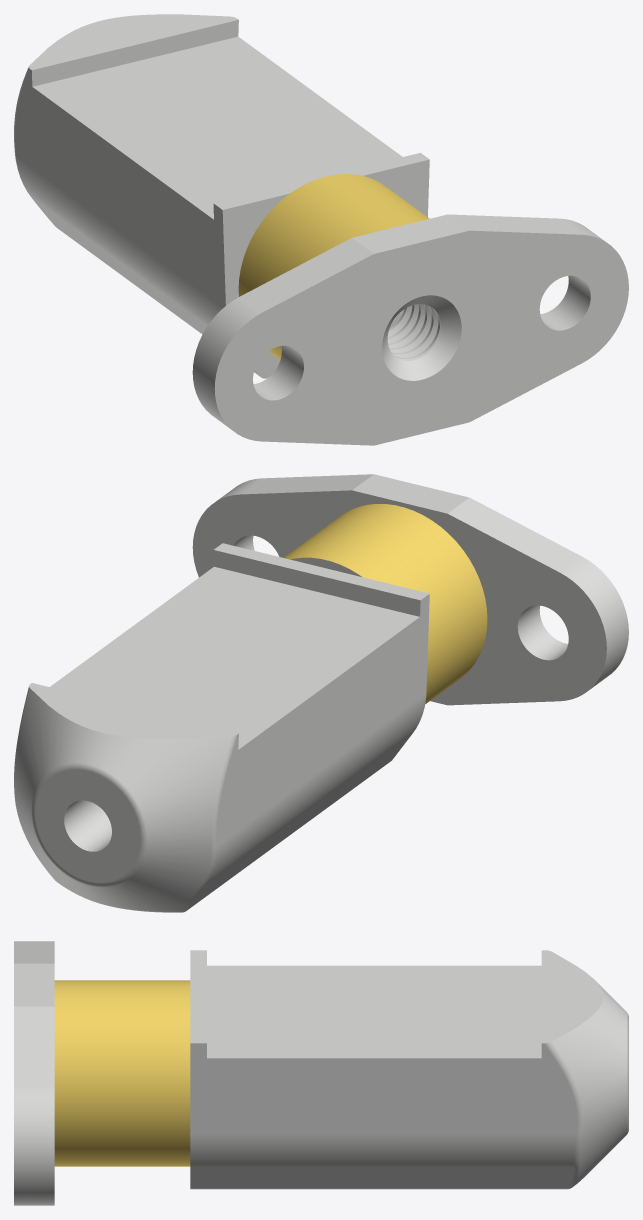
The model's file is Body4.gltf.
3 renders of one model, top to bottom at view 1: azimuth 30°, elevation 25°; view 2: azimuth 150°, elevation 25°; view 3: azimuth 270°, elevation 25°, orthographic. The views are drawn at different scales.
Parts seen in each view (by area): view 1: mesh3911, mesh3880, mesh3883, mesh3899, mesh3885, mesh3897, mesh3878, mesh3879, mesh3901, mesh3902, mesh3912, mesh3908 (+7 smaller); view 2: mesh3880, mesh3900, mesh3873, mesh3883, mesh3899, mesh3871, mesh3885, mesh3878, mesh3881, mesh3901, mesh3902, mesh3887 (+7 smaller); view 3: mesh3880, mesh3882, mesh3899, mesh3892, mesh3873, mesh3895, mesh3906, mesh3878, mesh3907, mesh3908, mesh3884, mesh3901 (+2 smaller).
Boxes of the visible parts, x1,y1,x2,y2 form: mesh3911: (214,230,628,445); mesh3880: (33,36,402,219); mesh3883: (15,70,225,307); mesh3899: (238,174,429,359); mesh3885: (16,156,223,325); mesh3897: (222,159,429,378); mesh3878: (29,14,238,70); mesh3879: (32,20,238,86); mesh3901: (240,238,373,312); mesh3902: (192,297,261,428); mesh3912: (382,295,461,380); mesh3908: (352,214,469,253); mesh3880: (50,566,419,749); mesh3900: (192,490,606,705); mesh3873: (14,688,229,911); mesh3883: (216,594,429,845); mesh3899: (284,504,487,704); mesh3871: (35,769,140,882); mesh3885: (204,693,426,885); mesh3878: (29,683,238,738); mesh3881: (213,550,420,616); mesh3901: (448,497,581,572); mesh3902: (560,556,628,689); mesh3887: (188,734,411,909); mesh3880: (207,965,541,1058); mesh3882: (190,1043,577,1133); mesh3899: (54,980,190,1166); mesh3892: (190,1134,576,1167); mesh3873: (552,979,626,1186); mesh3895: (190,1168,573,1187); mesh3906: (14,1086,54,1205); mesh3878: (541,950,603,1043); mesh3907: (14,1006,54,1085); mesh3908: (14,963,54,1006); mesh3884: (190,950,206,1043); mesh3901: (14,942,54,963).
Bounding box in the file's own units: 0.026 × 0.0115 × 0.0363.
